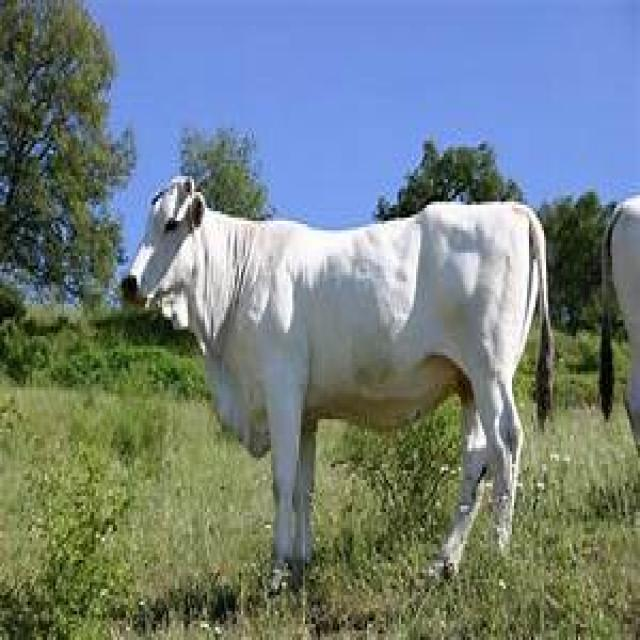cow: (126, 179, 553, 592)
